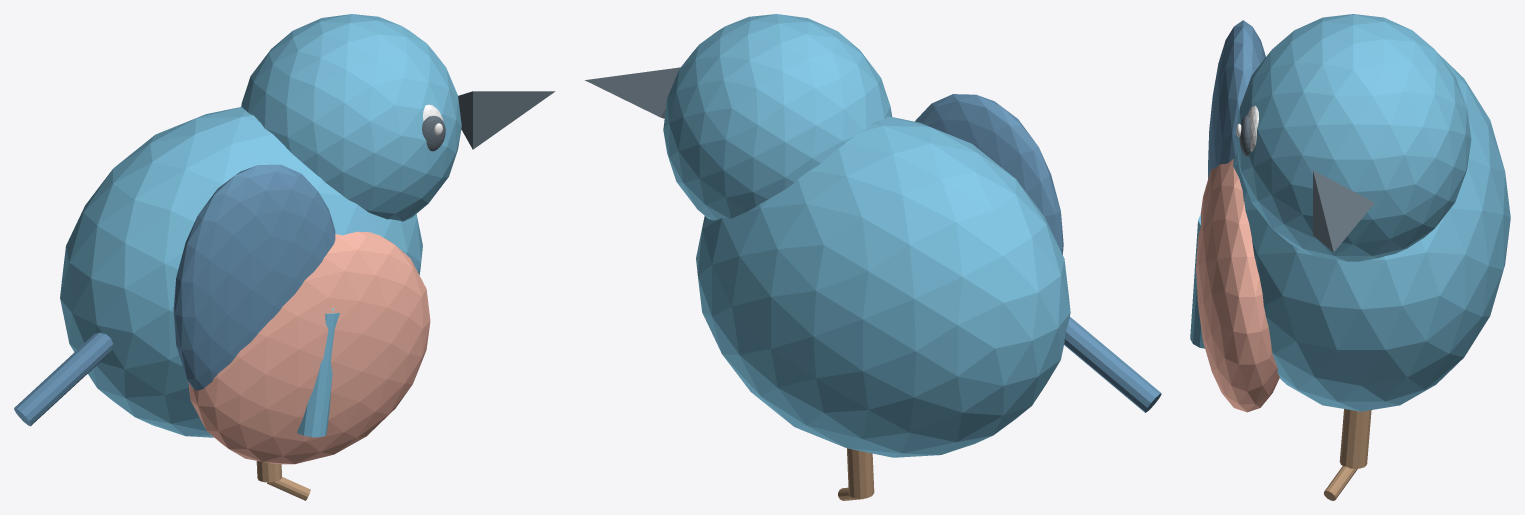
Rendered from bird.glb.
The picture shows the model from 3 angles, left to right: view 1: azimuth 30°, elevation 25°; view 2: azimuth 150°, elevation 25°; view 3: azimuth 270°, elevation 25°; orthographic projection. The views are drawn at different scales.
Visible parts, largest first — view 1: body, breast, head, wing, beak, tail_feather, wing_feather; view 2: body, head, wing, tail_feather, beak, leg; view 3: head, body, breast, wing, beak, leg, wing_feather, toe, eye.
Part boxes in pixels (<box>): body: <box>60,107,422,437</box>; breast: <box>188,231,430,464</box>; head: <box>241,14,461,221</box>; wing: <box>173,164,335,390</box>; beak: <box>458,91,555,149</box>; tail_feather: <box>14,332,113,426</box>; wing_feather: <box>297,312,339,437</box>; body: <box>696,116,1070,457</box>; head: <box>663,14,892,220</box>; wing: <box>915,94,1063,254</box>; tail_feather: <box>1064,317,1161,412</box>; beak: <box>585,67,680,118</box>; leg: <box>847,448,874,498</box>; head: <box>1235,14,1471,261</box>; body: <box>1233,53,1510,411</box>; breast: <box>1196,159,1279,412</box>; wing: <box>1208,20,1265,178</box>; beak: <box>1313,170,1374,252</box>; leg: <box>1339,409,1371,468</box>; wing_feather: <box>1190,215,1204,348</box>; toe: <box>1324,466,1357,500</box>; eye: <box>1239,115,1250,156</box>.
Size of the model in its own units: 2.5 by 1.99 by 1.15.
